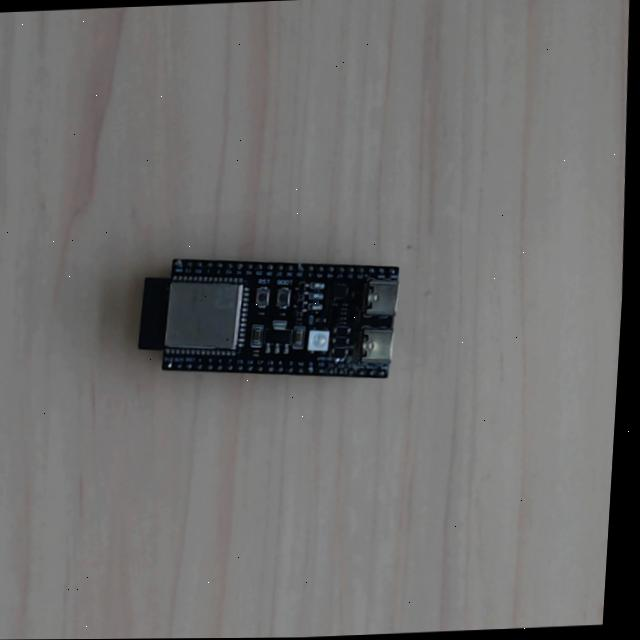ESP32S3-Devkit: (138, 257, 398, 378)
